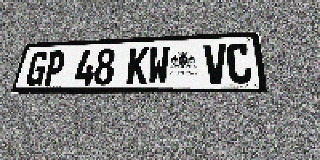4: (74, 49, 98, 85)
8: (93, 48, 117, 85)
C: (226, 43, 253, 84)
G: (24, 51, 50, 86)
K: (126, 47, 149, 85)
P: (42, 50, 67, 86)
V: (204, 44, 228, 84)
W: (147, 46, 170, 84)
